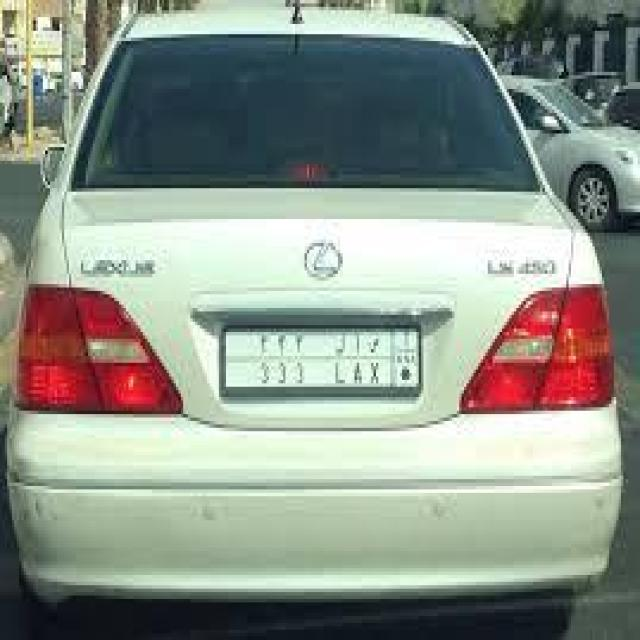license_plate: (202, 291, 431, 407)
